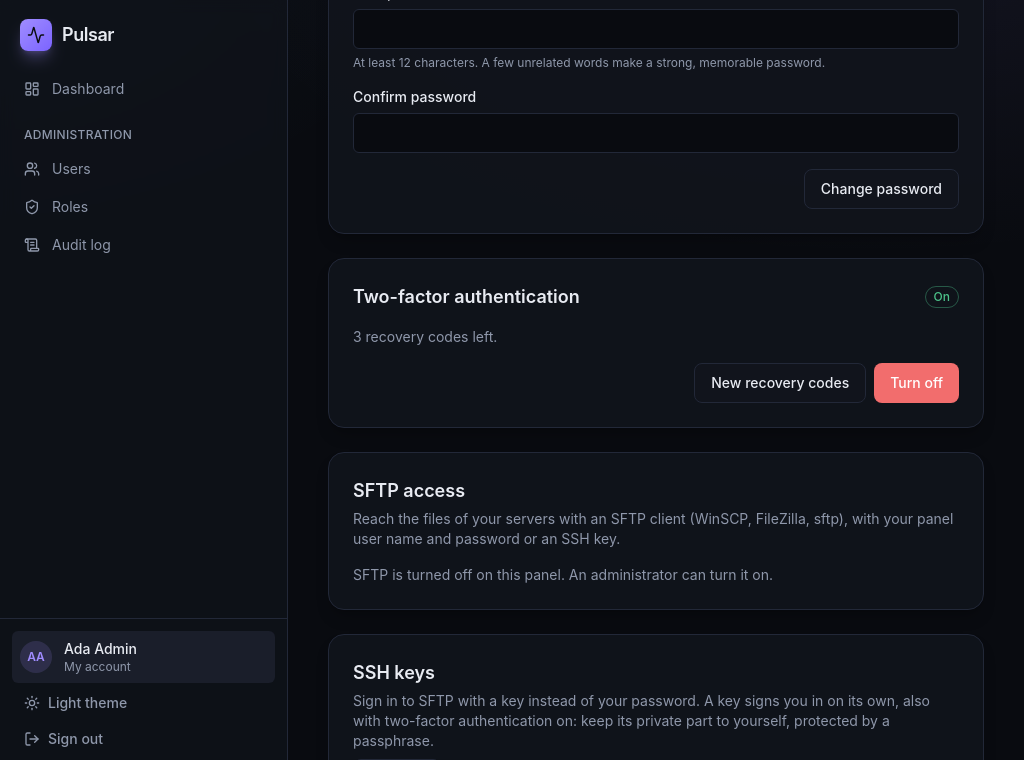
Test: two-factor setup › turns it off from the account page with the password
(page scrolled)
Check: the text "3 recovery codes left." is shown, box 353,328 -> 497,345
Click the button "Turn off" at coordinates (917, 383), box 874,363 -> 959,403
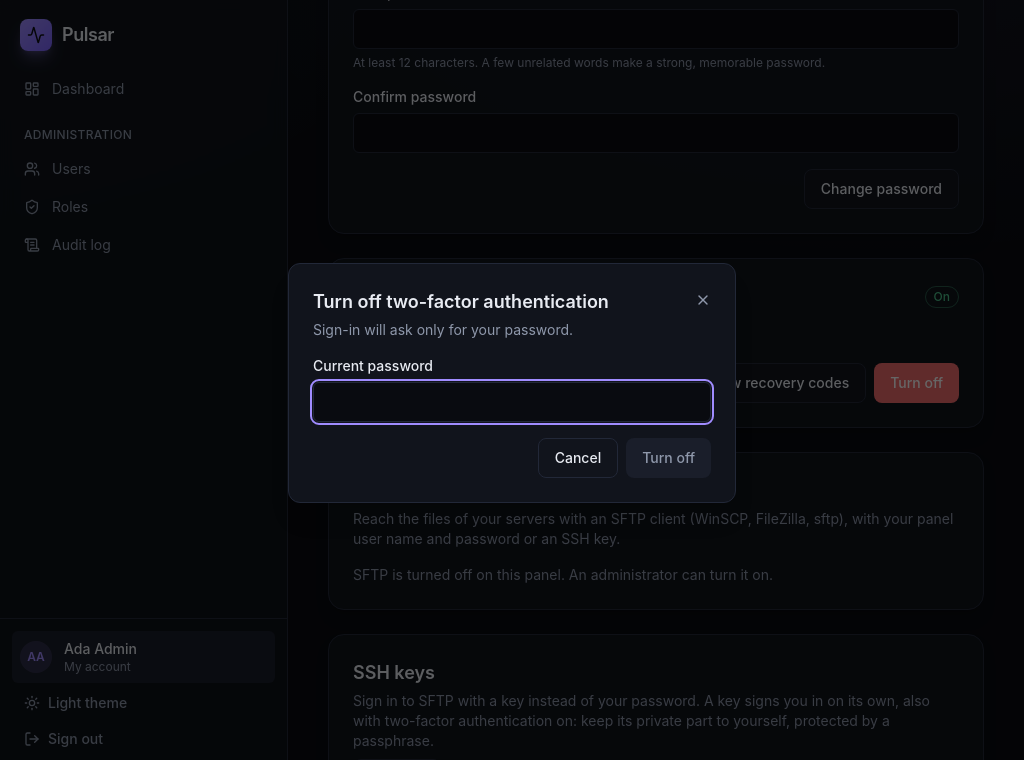
Type "not it" into the password field labelled "Current password" at coordinates (512, 402), box 313,382 -> 711,422
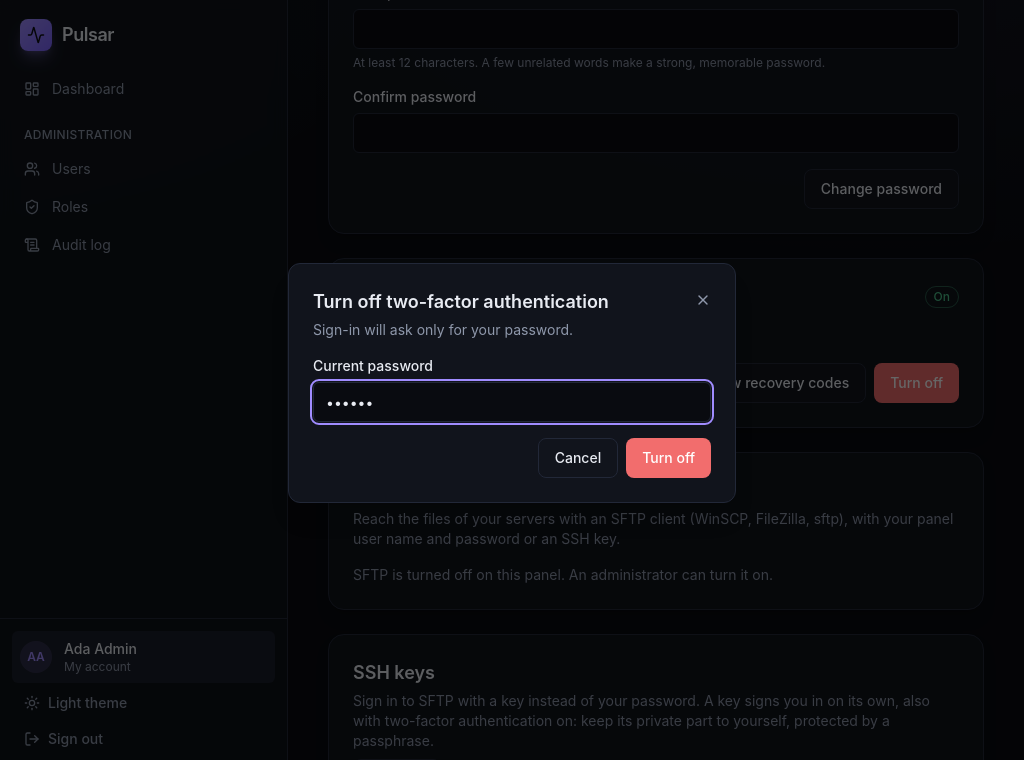
Click the button "Turn off" at coordinates (669, 458), box 626,438 -> 711,478
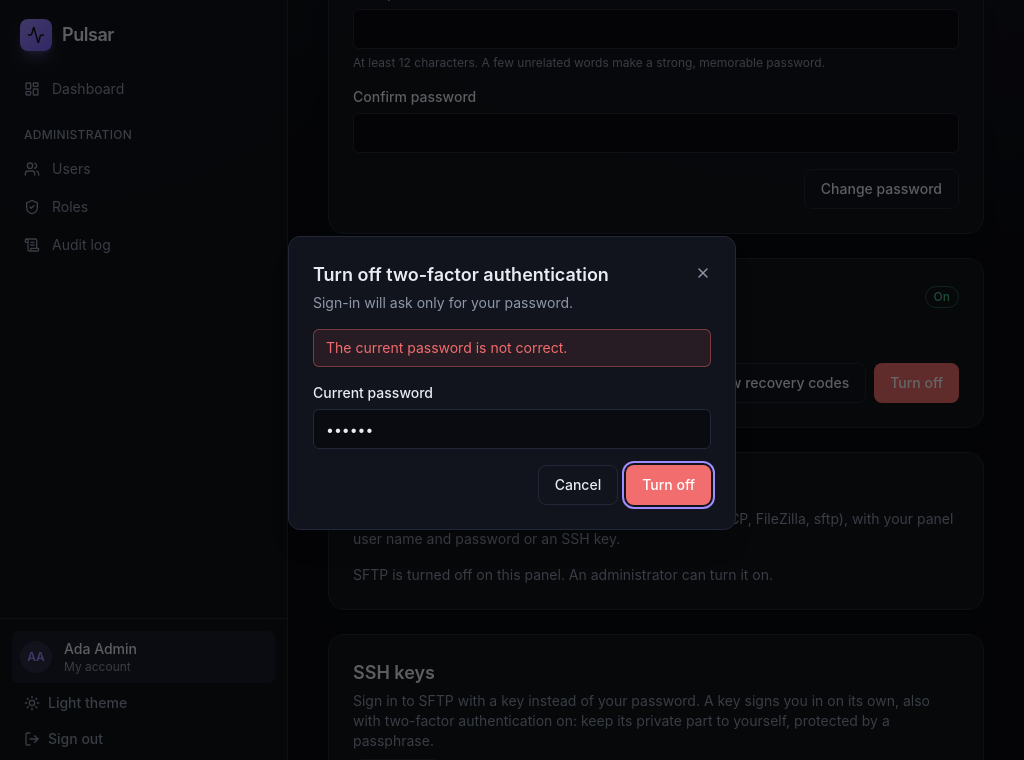
Check: the text "The current password is not correct." is shown, box 313,329 -> 711,367
Type "my password here" into the password field labelled "Current password" at coordinates (512, 429), box 313,409 -> 711,449
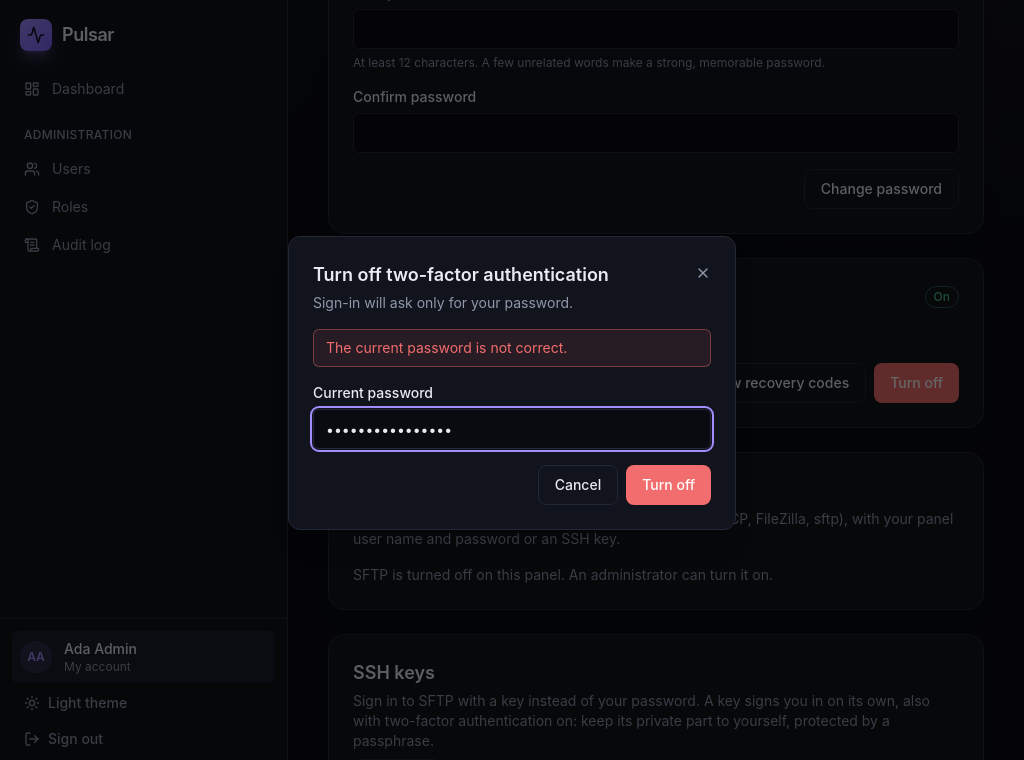
Click the button "Turn off" at coordinates (669, 485), box 626,465 -> 711,505
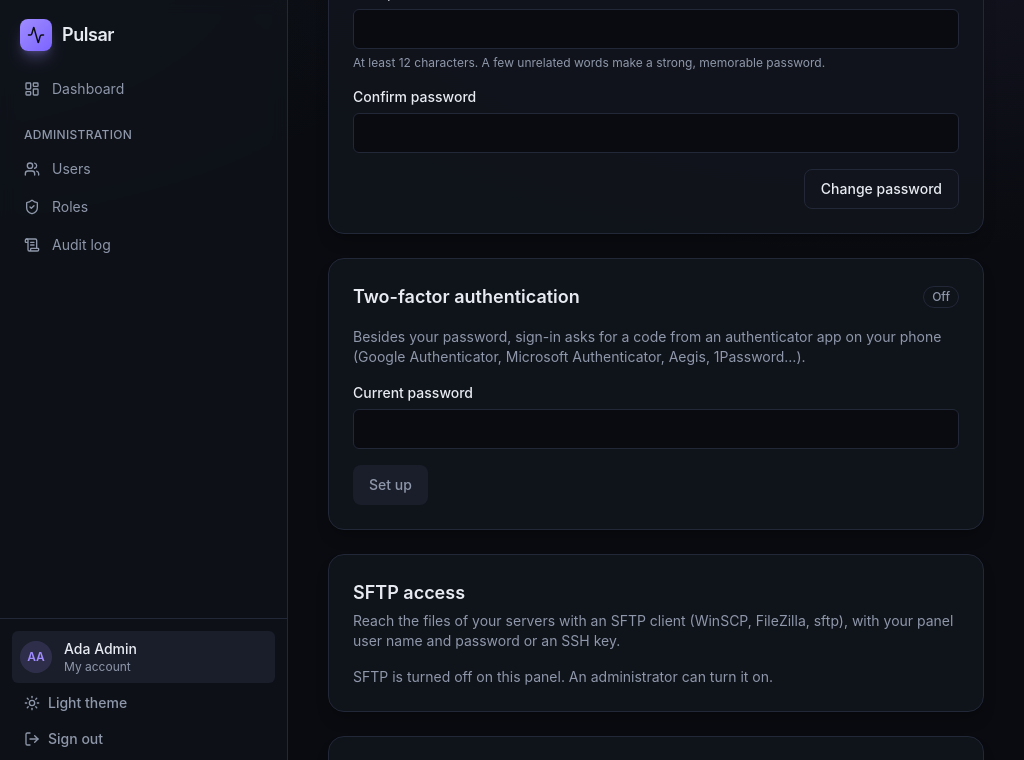
Check: the button "Set up" is shown, box 353,465 -> 428,505
Check: the dialog is gone
